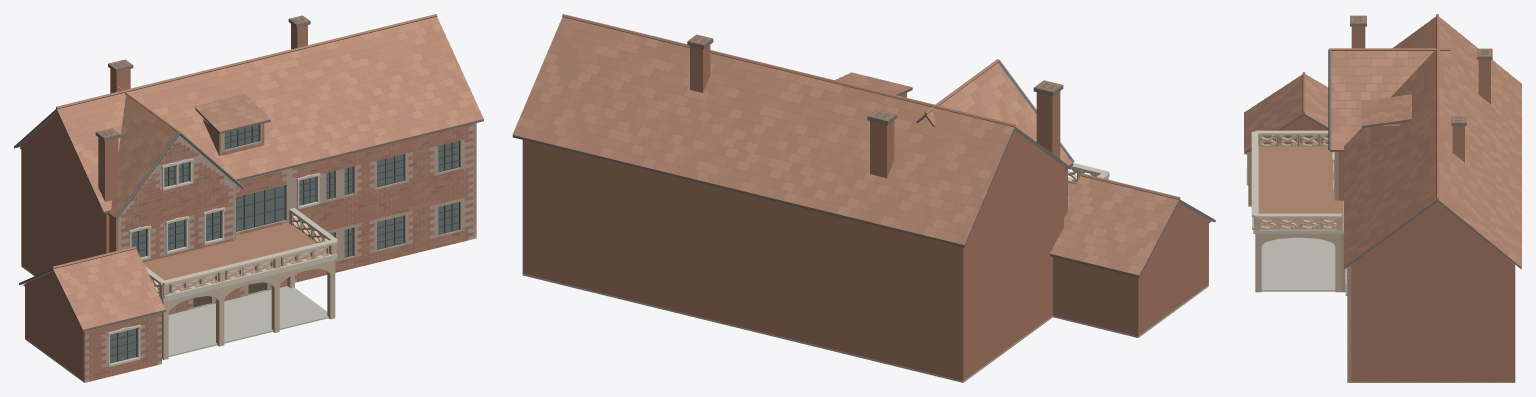
Rendered from changning-xinhua-lane-185-no1-lod.glb.
3 renders of one model, left to right at view 1: azimuth 30°, elevation 25°; view 2: azimuth 150°, elevation 25°; view 3: azimuth 270°, elevation 25°, orthographic. The views are drawn at different scales.
Parts seen in each view (by area): view 1: 新华路185弄1号花园住宅; view 2: 新华路185弄1号花园住宅; view 3: 新华路185弄1号花园住宅.
Part boxes in pixels (x1,y1,x2,y2): 新华路185弄1号花园住宅: [14, 14, 483, 382]; 新华路185弄1号花园住宅: [512, 14, 1215, 382]; 新华路185弄1号花园住宅: [1244, 14, 1521, 382].
Size of the model in its own units: 26.8 by 11.75 by 14.41.
